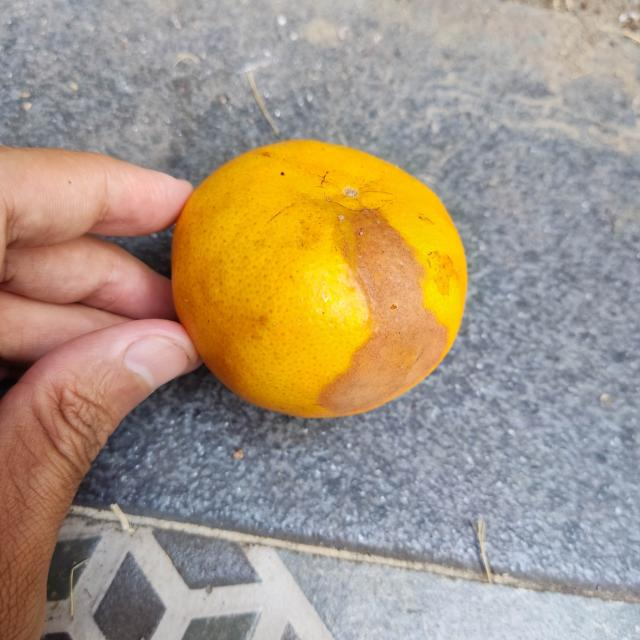orange: (170, 136, 468, 418)
